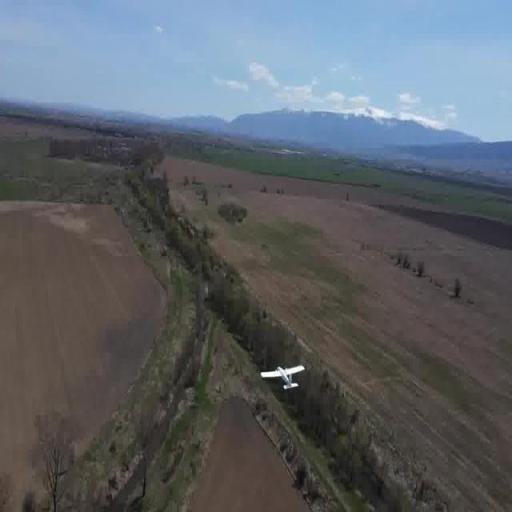uav: (256, 353, 310, 403)
